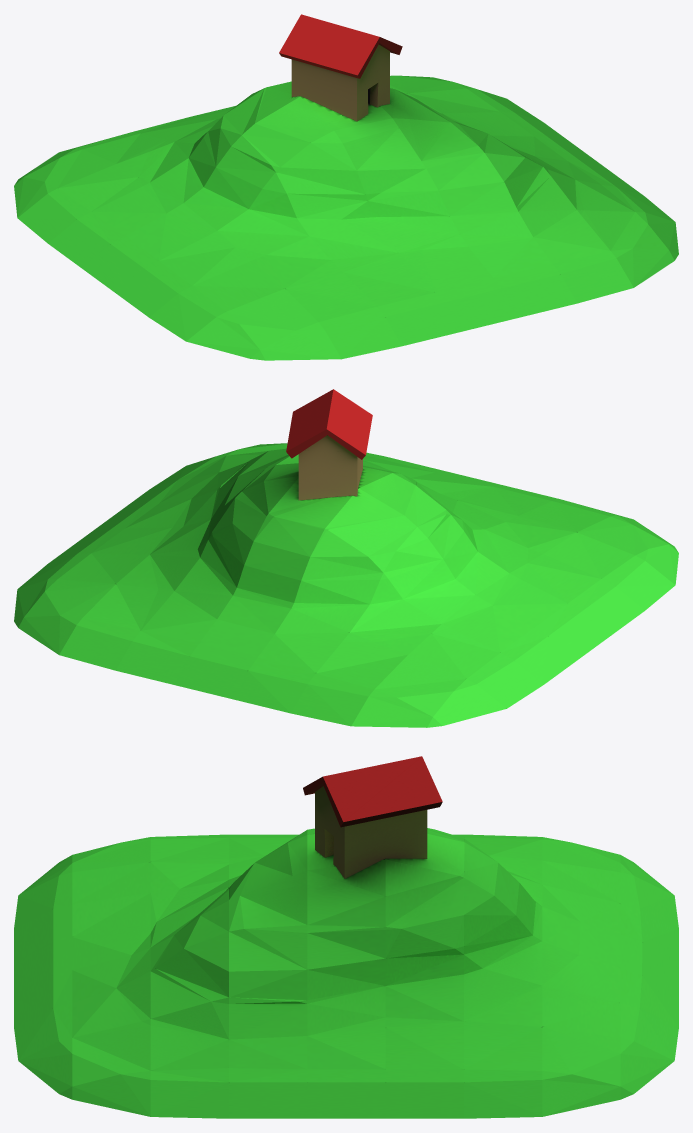
File: metacave2.gltf
3 views of the same model, one above another, from view 1: azimuth 30°, elevation 25°; view 2: azimuth 150°, elevation 25°; view 3: azimuth 270°, elevation 25° (orthographic). The views are drawn at different scales.
Parts seen in each view (by area): view 1: Mball.003, House; view 2: Mball.003, House; view 3: Mball.003, House.
Part boxes in pixels (left/top/right/bottom): Mball.003: left=14, top=75, right=678, bottom=360; House: left=279, top=14, right=402, bottom=121; Mball.003: left=14, top=443, right=678, bottom=727; House: left=286, top=389, right=372, bottom=500; Mball.003: left=14, top=828, right=678, bottom=1118; House: left=303, top=756, right=442, bottom=878.
Bounding box in the file's own units: 31.42 × 11.2 × 31.42.
Materials: 4 (4 with a texture image).
